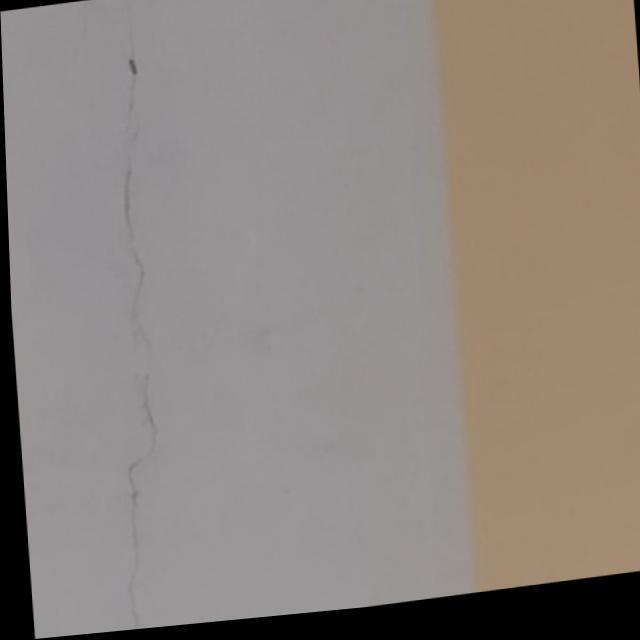Crack: (119, 10, 161, 620)
